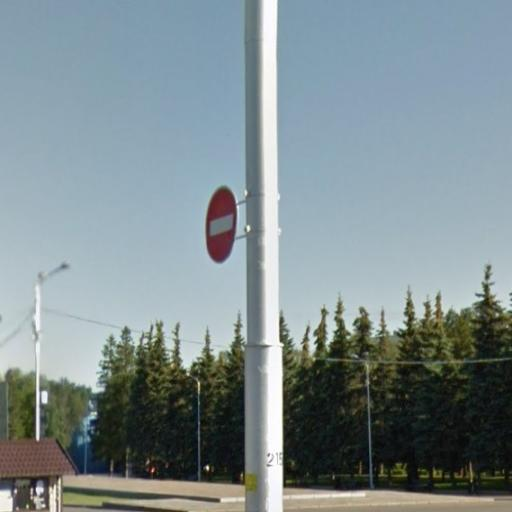traffic_sign: (204, 184, 242, 265)
